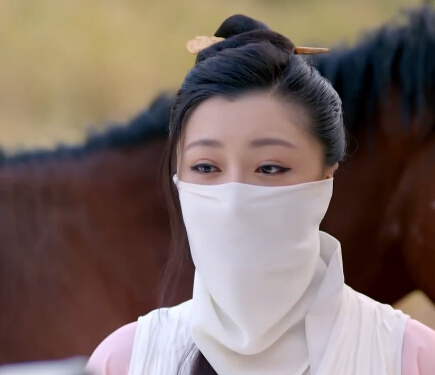face_mask: (174, 95, 326, 280)
